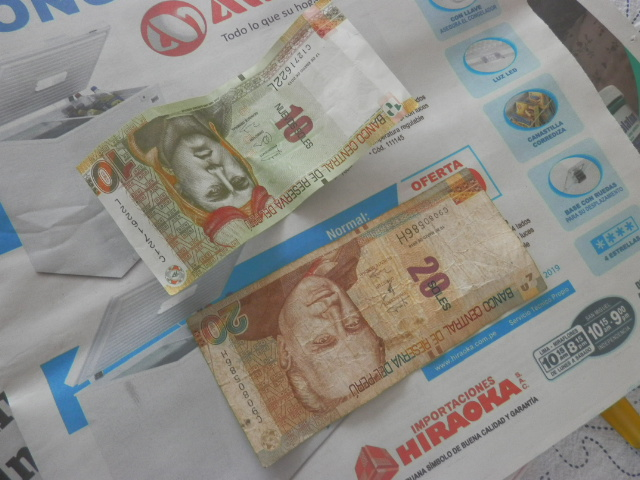B10: (83, 17, 402, 280)
B20: (199, 248, 554, 432)
